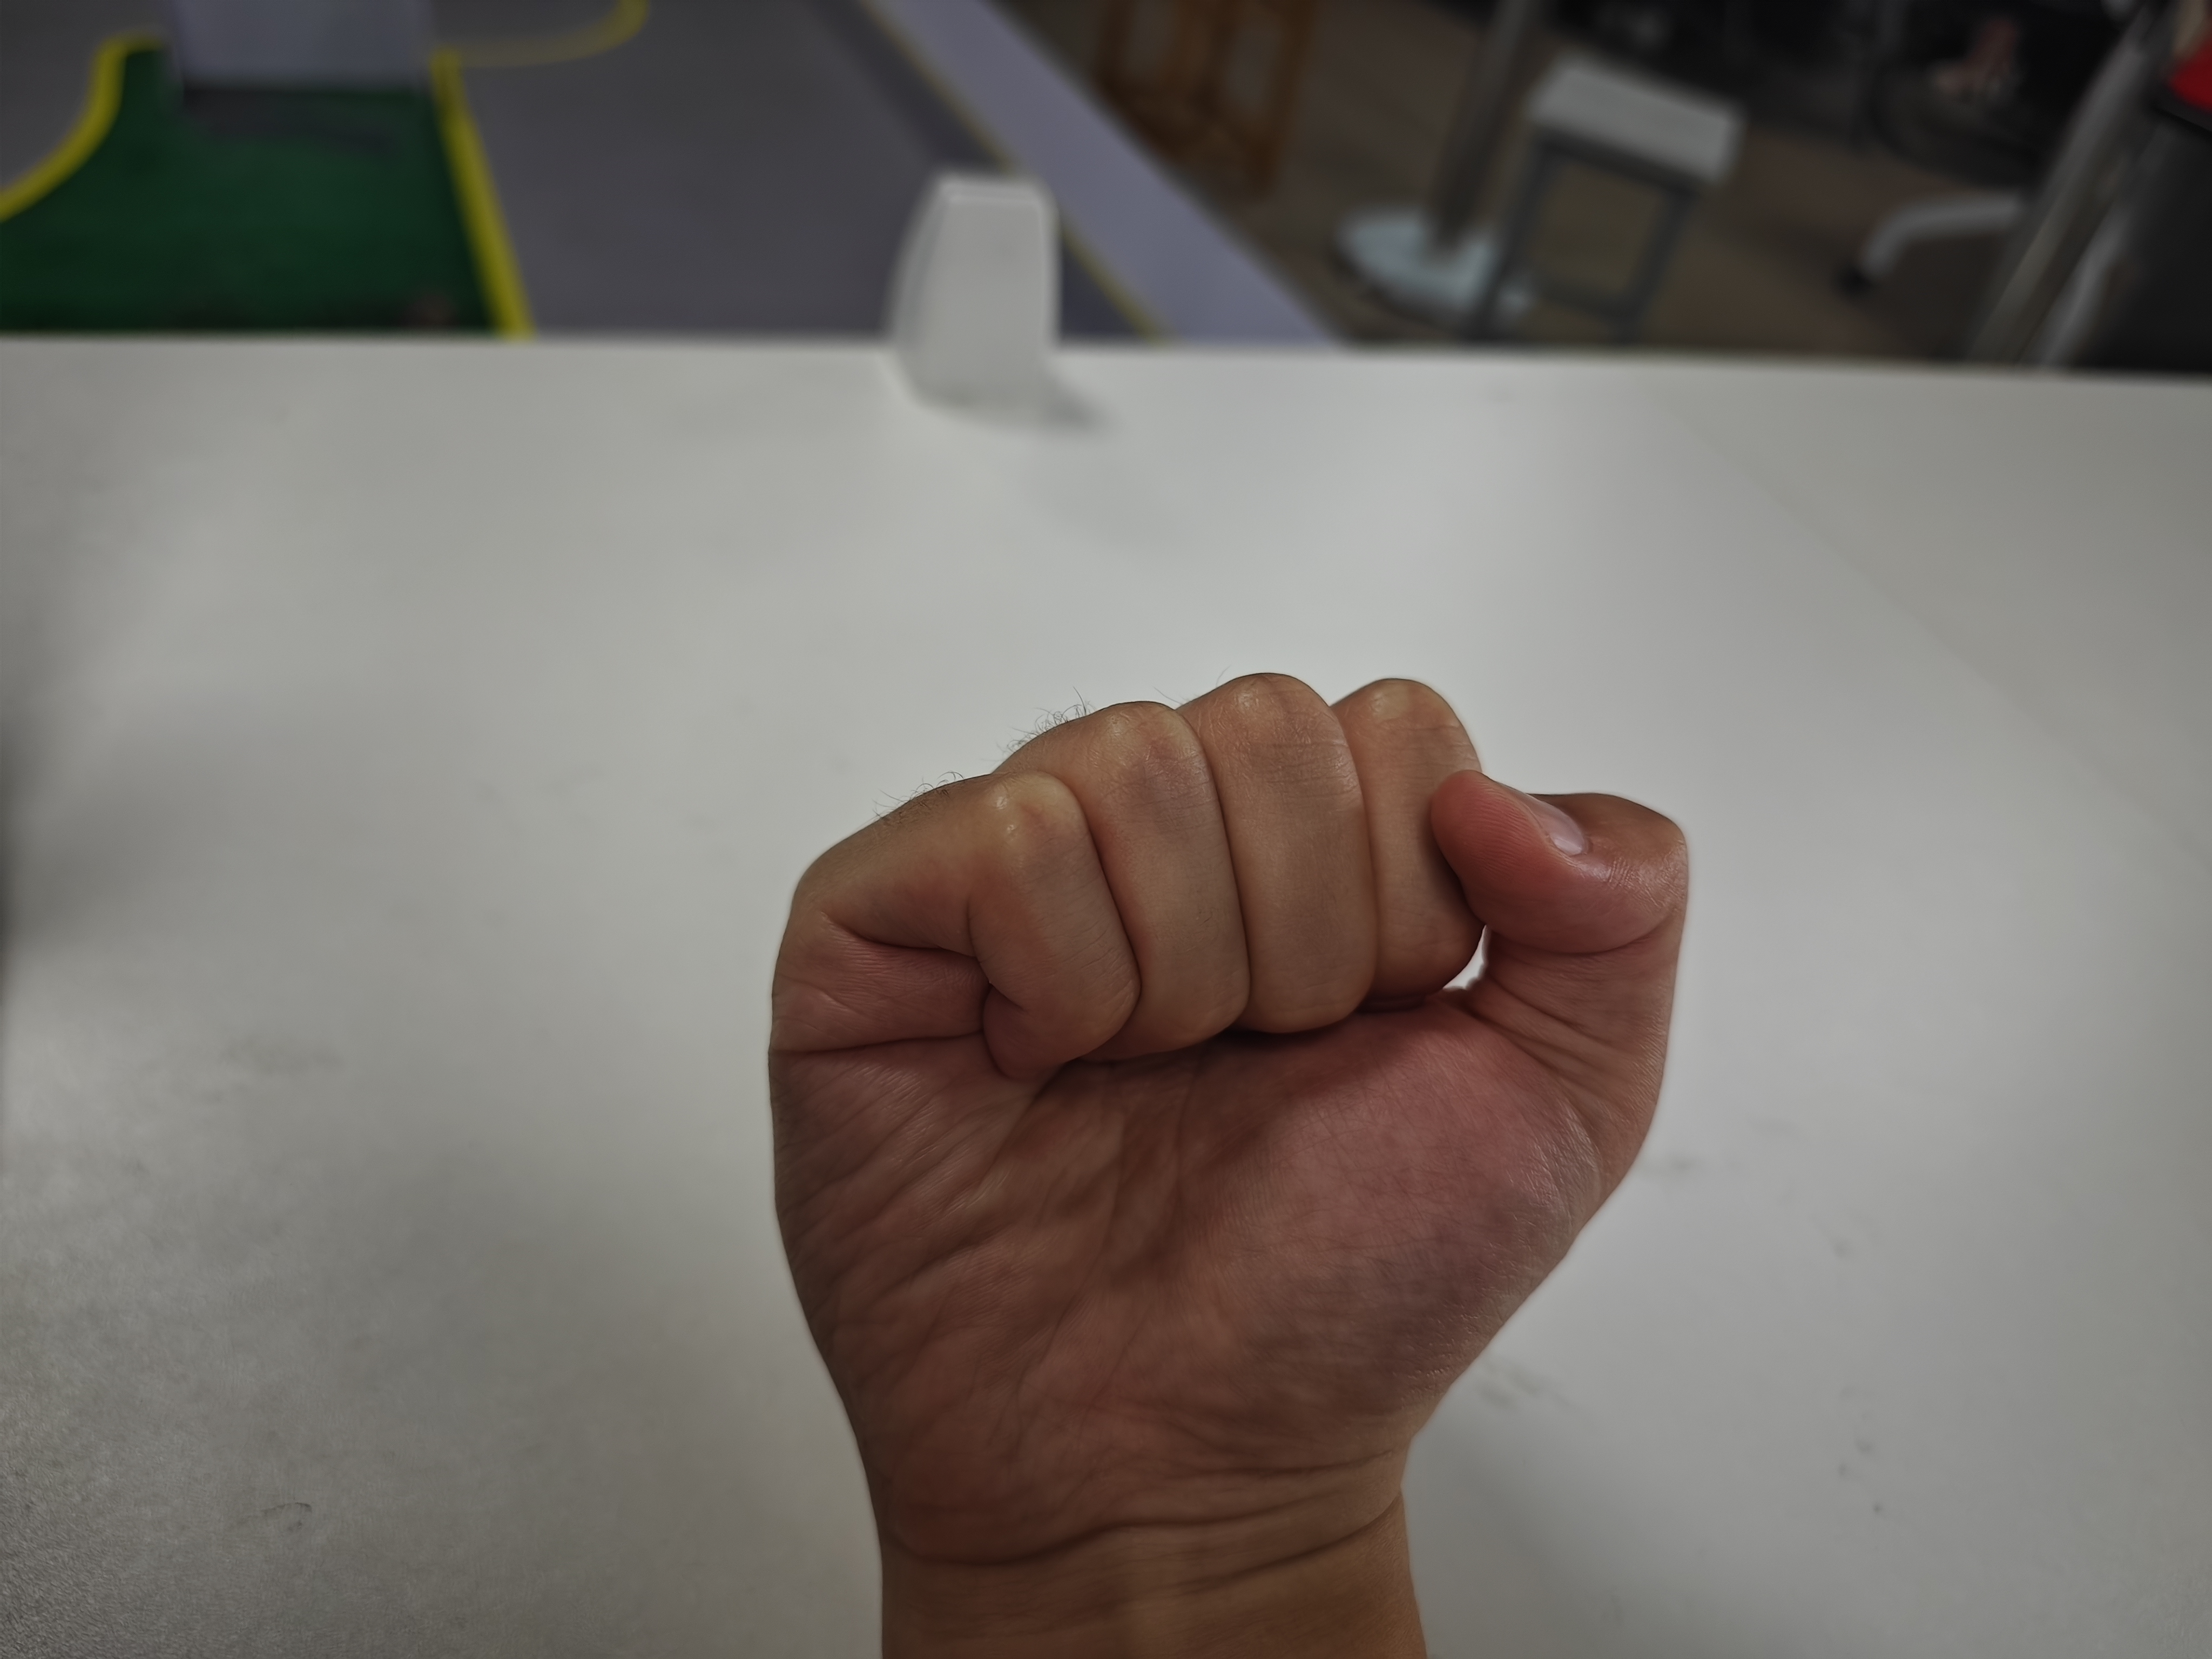mb: (756, 671, 1689, 1509)
